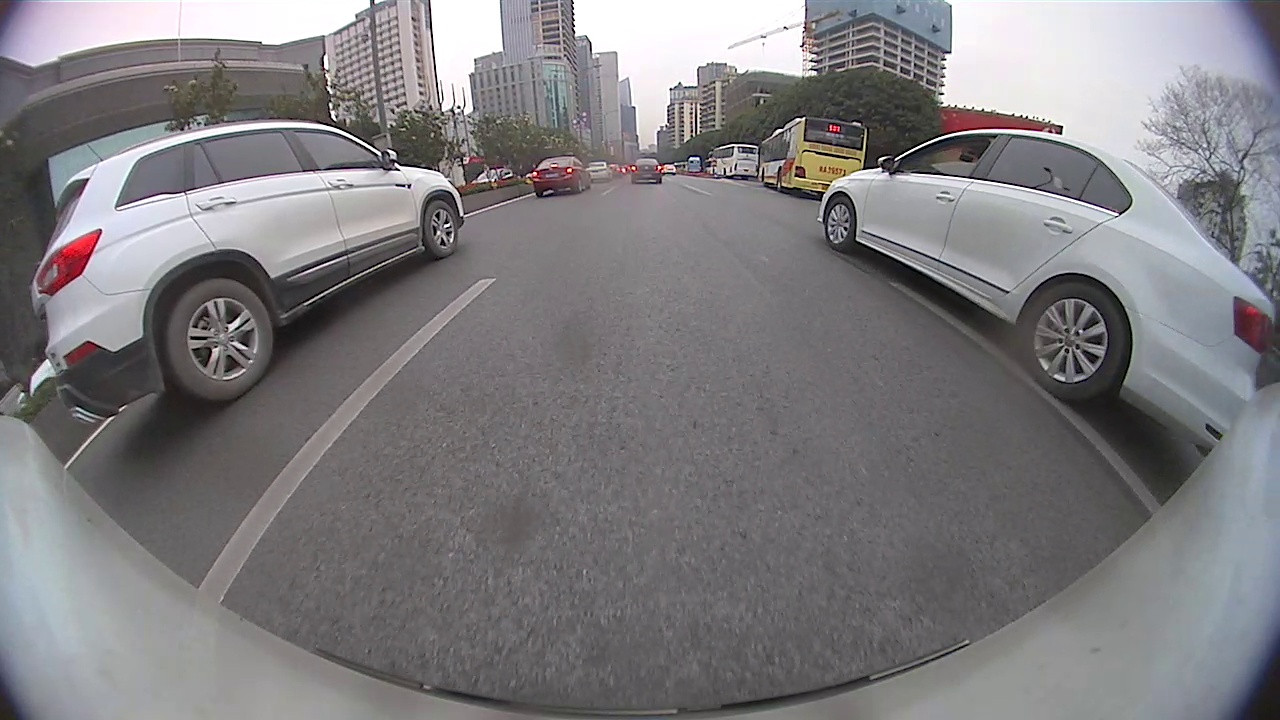bus: (761, 113, 870, 194), (706, 143, 759, 178)
car: (818, 128, 1276, 453), (31, 119, 465, 427), (531, 153, 586, 199), (629, 158, 663, 184), (583, 162, 612, 187), (474, 167, 511, 184)
front: (422, 199, 459, 256), (822, 197, 858, 248)
rear: (1016, 279, 1129, 402), (165, 280, 273, 404)
